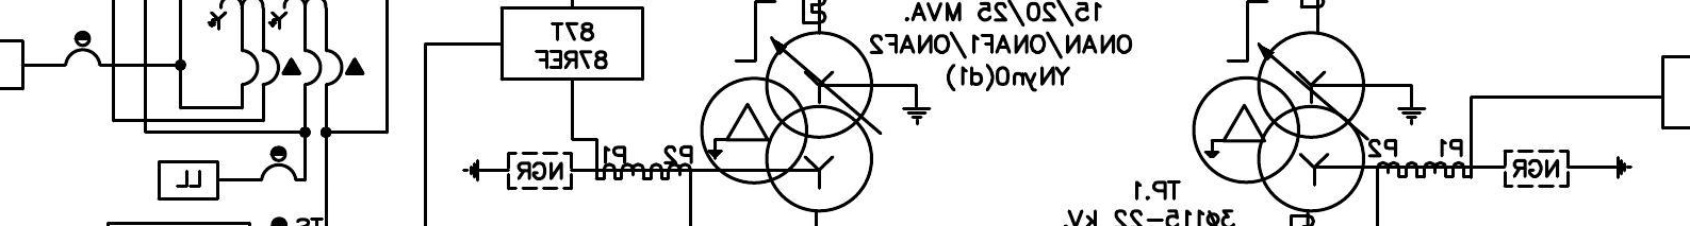11522_tx_ynyn0d1: (1191, 30, 1367, 214), (699, 30, 874, 214)
LL: (156, 159, 220, 202)
NGR_future: (1502, 149, 1633, 188), (461, 152, 574, 190)
